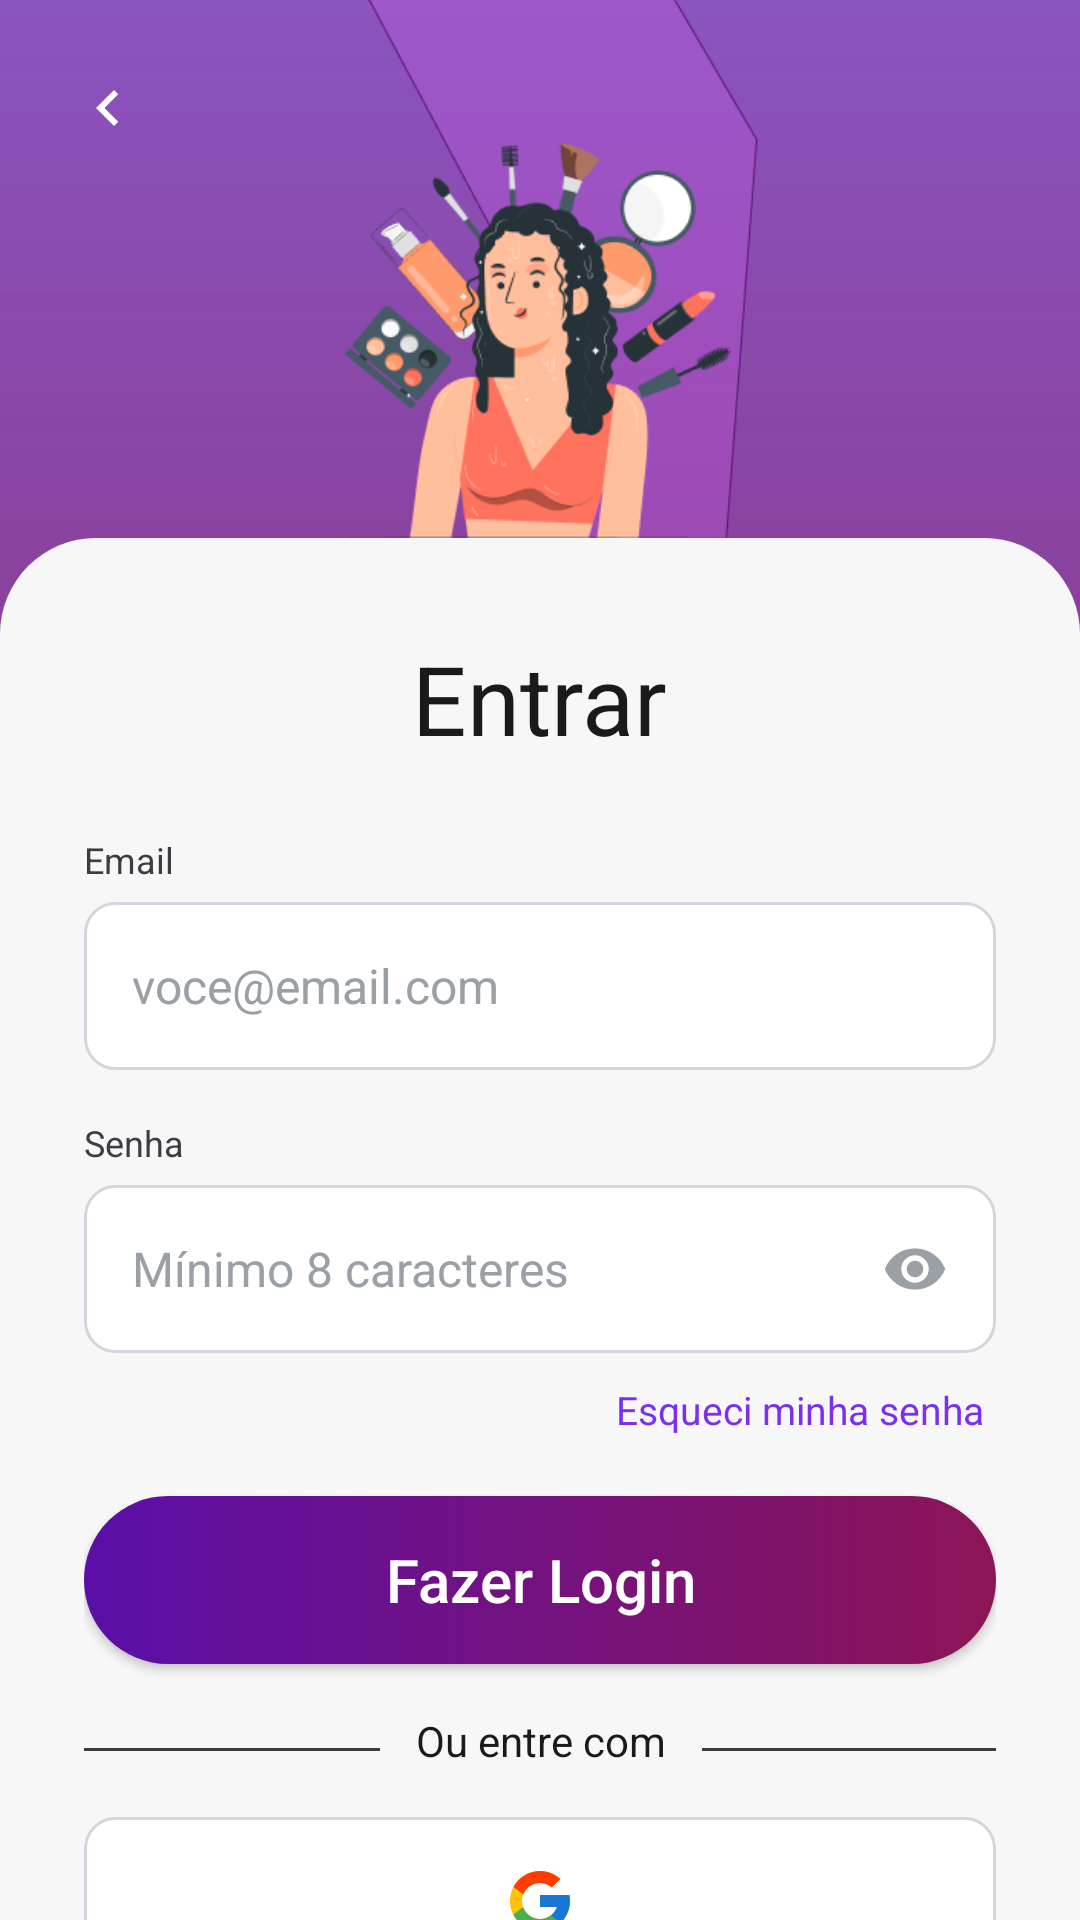

Screen size 1080px x 1920px. Icon name, then its box in pixels as (x1, y1, x2, y2):
Voltar: (96, 90, 118, 126)
